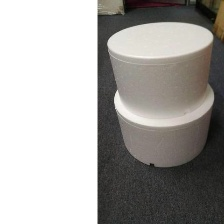foam_box: (103, 16, 217, 121), (111, 75, 218, 171)
